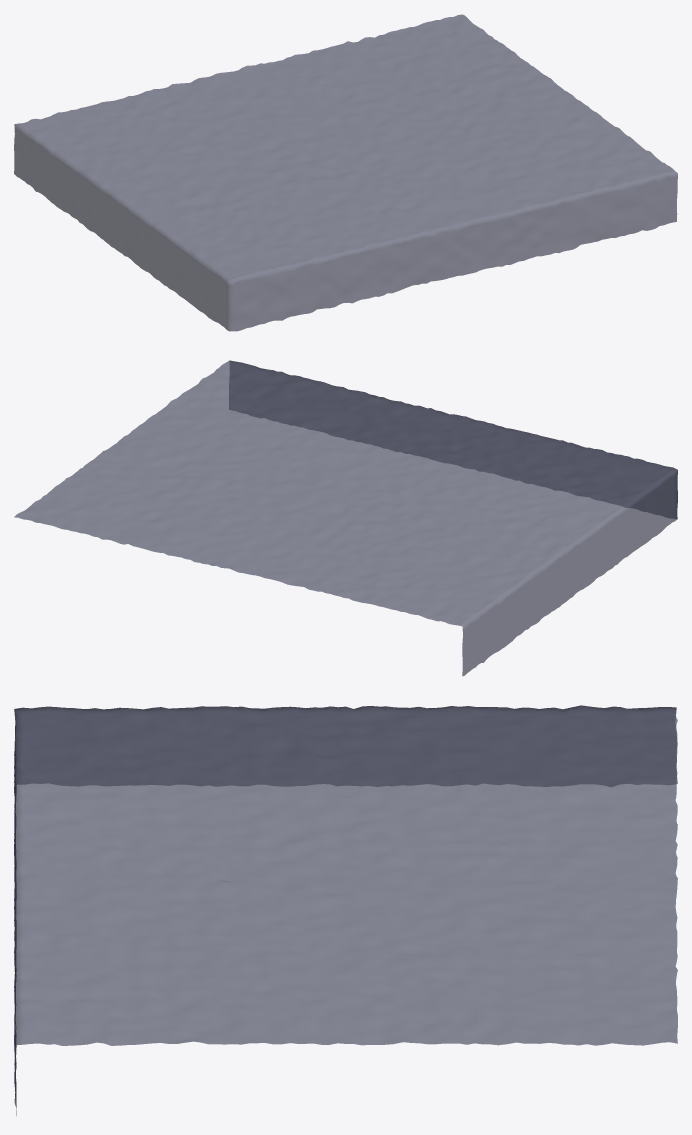
Rendered from water.fbx.
3 renders of one model, top to bottom at view 1: azimuth 30°, elevation 25°; view 2: azimuth 150°, elevation 25°; view 3: azimuth 270°, elevation 25°, orthographic. The views are drawn at different scales.
Visible parts, largest first — view 1: water_low; view 2: water_low; view 3: water_low.
Part boxes in pixels (bbox=[...]): water_low: bbox=[14, 14, 677, 331]; water_low: bbox=[14, 360, 677, 676]; water_low: bbox=[14, 705, 677, 1115].
Bounding box in the file's own units: 14055 × 1606 × 11723.
